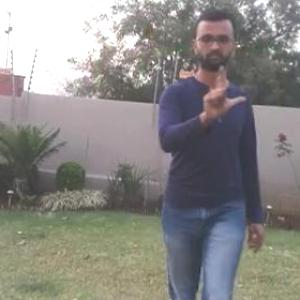land_hand: (198, 56, 248, 121)
